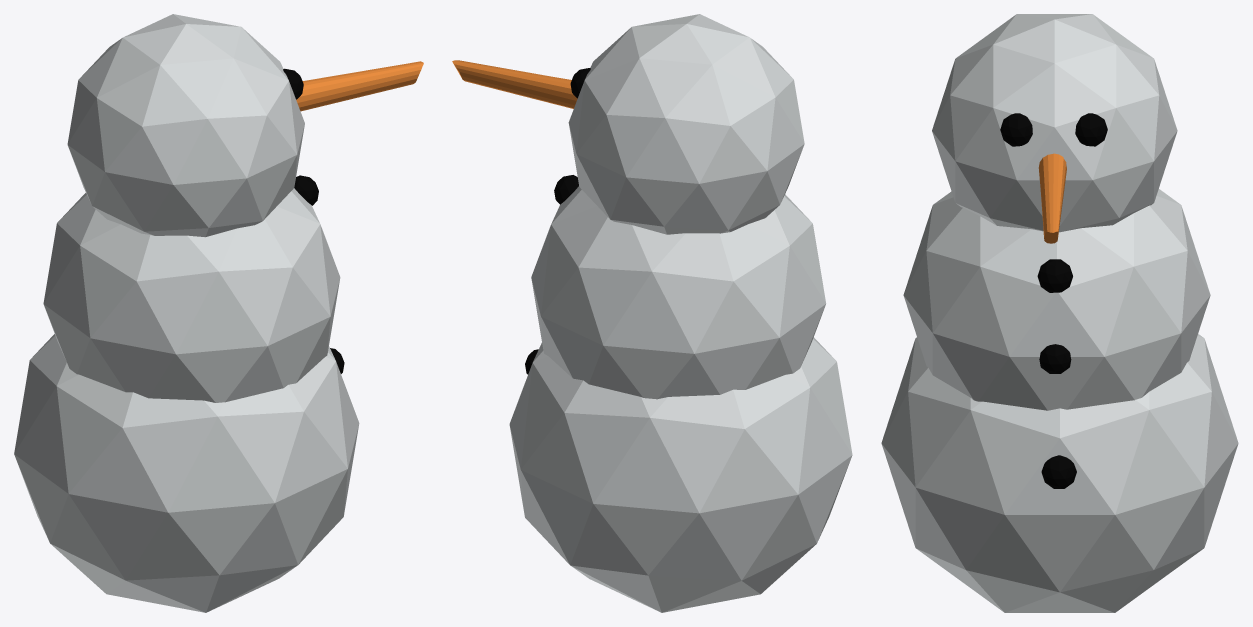
Rendered from michel.fbx.
The picture shows the model from 3 angles, left to right: view 1: azimuth 30°, elevation 25°; view 2: azimuth 150°, elevation 25°; view 3: azimuth 270°, elevation 25°; orthographic projection.
Visible parts, largest first — view 1: Icosphère; view 2: Icosphère; view 3: Icosphère.
Part boxes in pixels (x1=…): Icosphère: x1=14, y1=14, x2=423, y2=612; Icosphère: x1=452, y1=14, x2=852, y2=612; Icosphère: x1=881, y1=14, x2=1238, y2=612.
Size of the model in its own units: 248 by 361 by 200.
